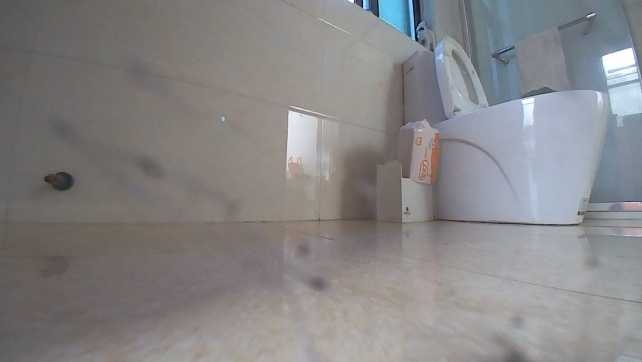toilet: (395, 38, 610, 223)
